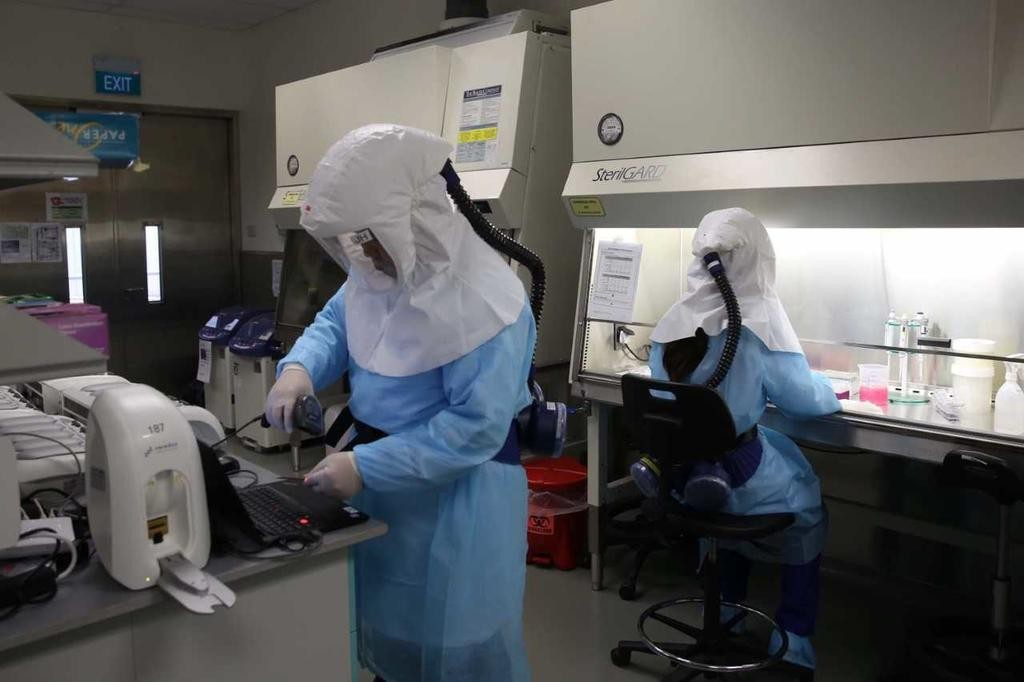Coverall: (279, 109, 551, 682), (642, 200, 826, 613)
Face_Shield: (307, 142, 468, 306)
Gloves: (256, 361, 314, 443), (301, 444, 370, 499)
